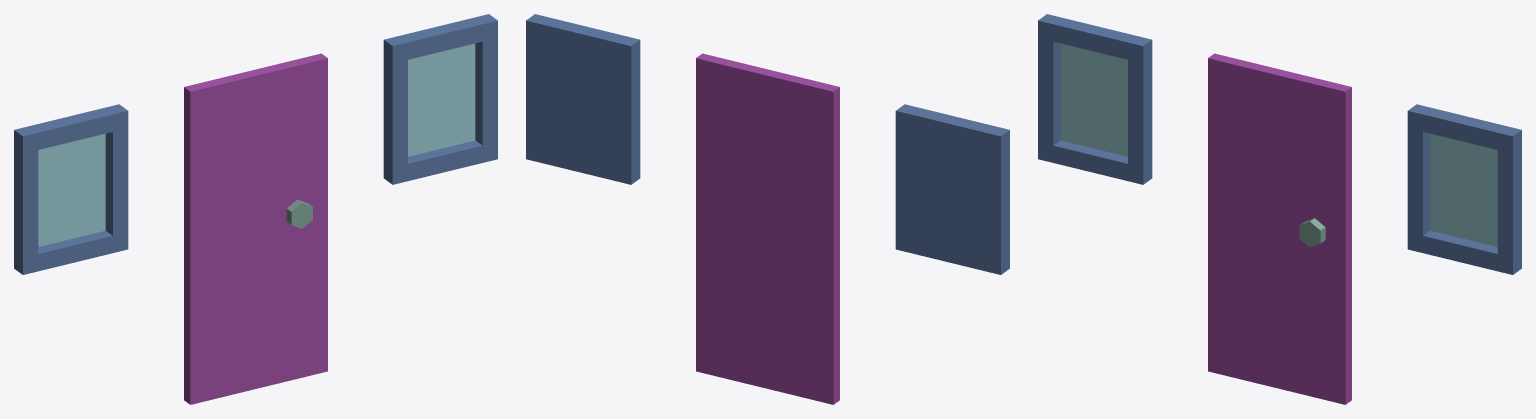
The model's file is facade_1.fbx.
3 views of the same model, side by side, from view 1: azimuth 30°, elevation 25°; view 2: azimuth 150°, elevation 25°; view 3: azimuth 330°, elevation 25° (orthographic).
Visible parts, largest first — view 1: door, window_front, window_front1, door_knob; view 2: door, window_front, window_front1; view 3: door, window_front1, window_front, door_knob.
Boxes of the visible parts, x1,y1,x2,y2 form: door: [184, 53, 327, 404]; window_front: [383, 14, 497, 184]; window_front1: [14, 104, 128, 274]; door_knob: [286, 199, 312, 228]; door: [696, 53, 839, 404]; window_front: [526, 14, 640, 184]; window_front1: [895, 104, 1009, 274]; door: [1208, 53, 1351, 404]; window_front1: [1038, 14, 1152, 184]; window_front: [1407, 104, 1521, 274]; door_knob: [1299, 218, 1325, 247].
Bounding box in the file's own units: 82.21 × 51.8 × 3.78.
